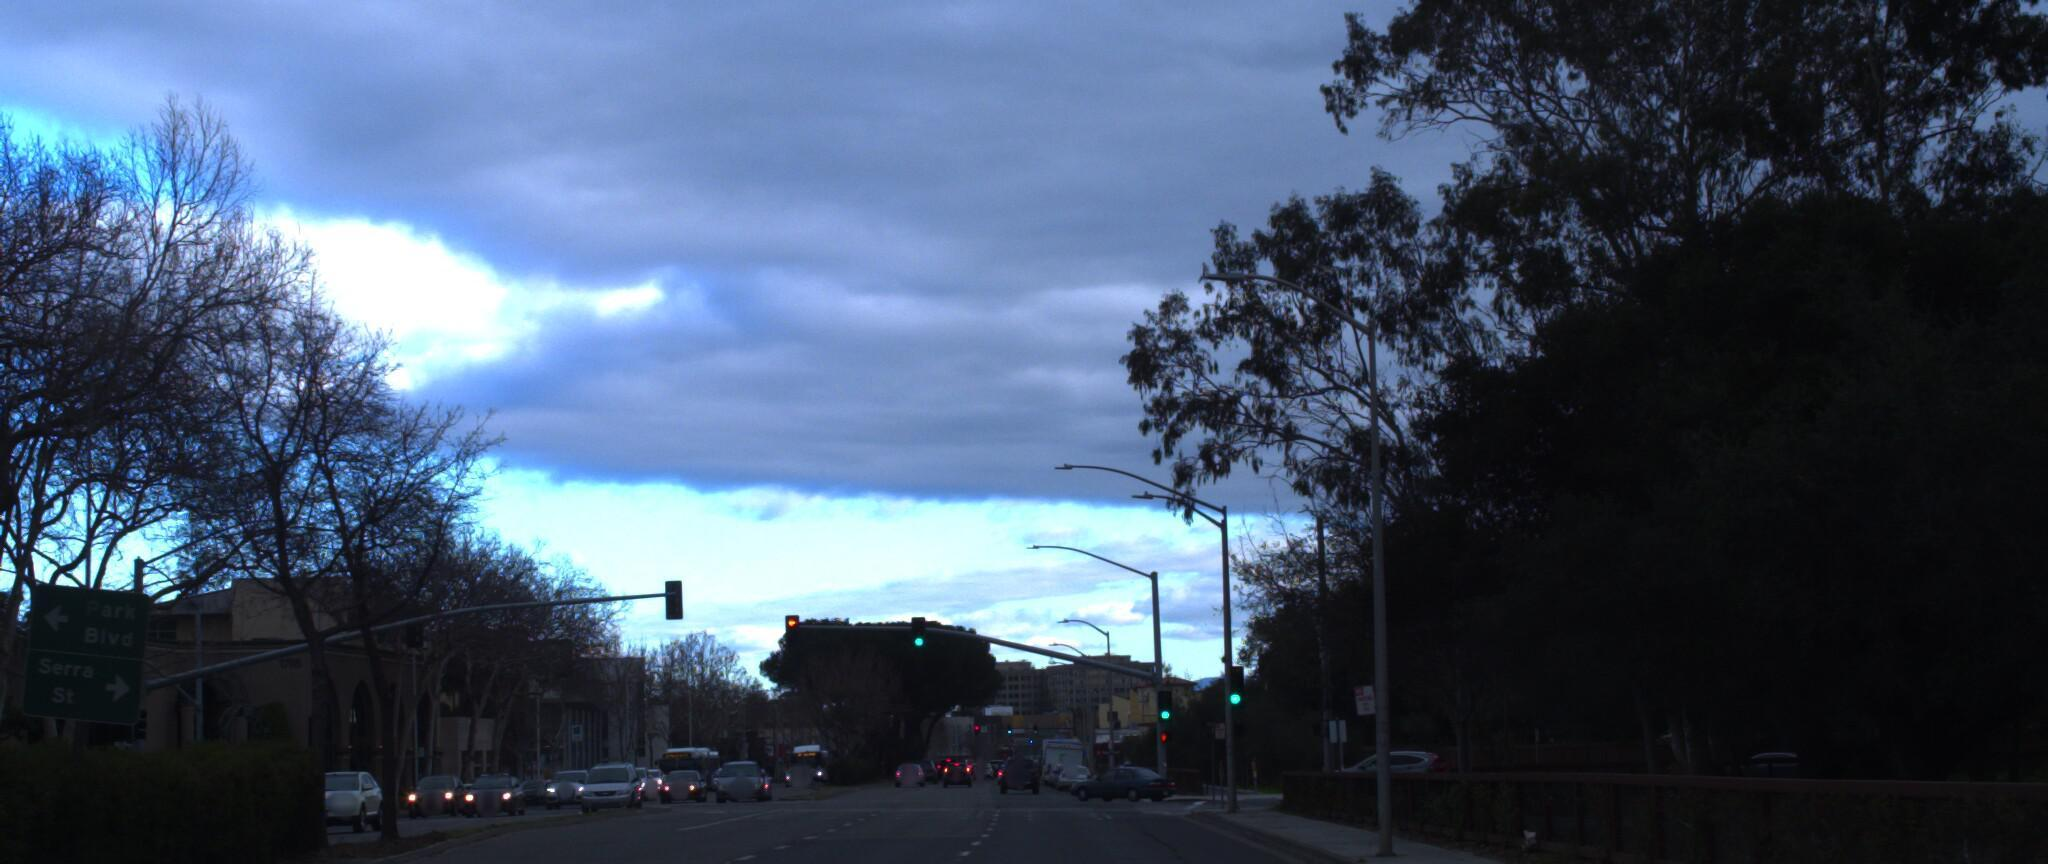car: (291, 767, 391, 833)
